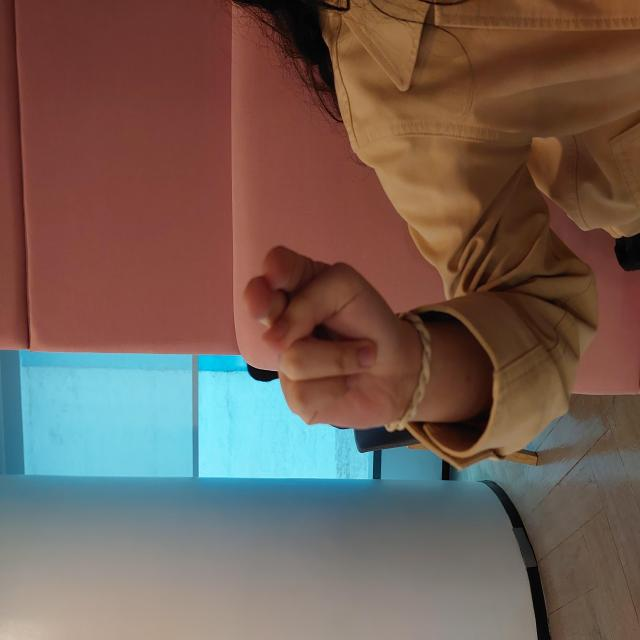N: (205, 237, 403, 417)
